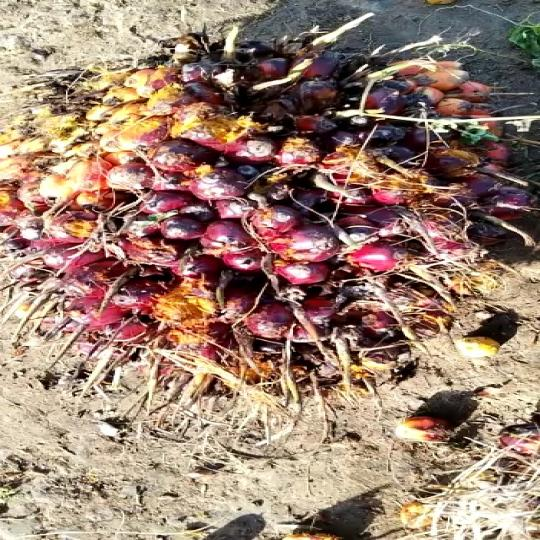masak: (0, 29, 540, 427)
